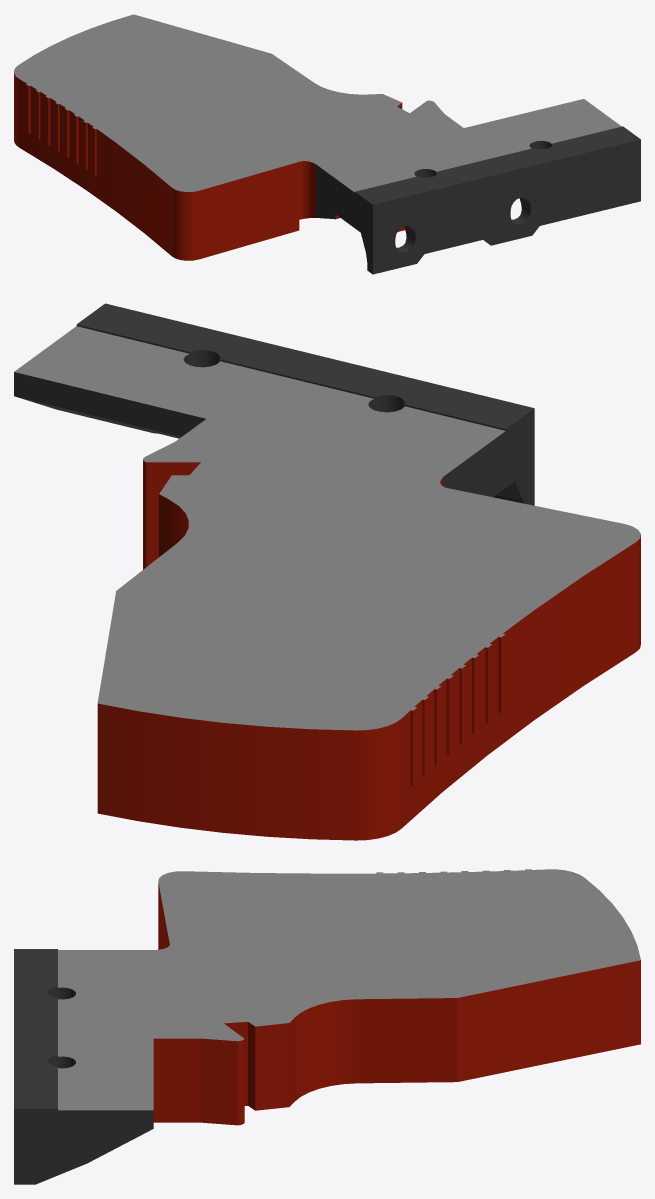
3 views of the same model, one above another, from view 1: azimuth 30°, elevation 25°; view 2: azimuth 150°, elevation 25°; view 3: azimuth 270°, elevation 25° (orthographic). The views are drawn at different scales.
Visible parts, largest first — view 1: bau0021032004; view 2: bau0021032004; view 3: bau0021032004.
Part boxes in pixels (bbox=[...]): bau0021032004: bbox=[14, 14, 640, 274]; bau0021032004: bbox=[14, 303, 640, 840]; bau0021032004: bbox=[14, 869, 640, 1184].
Size of the model in its own units: 0.0805 by 0.0154 by 0.0885.
